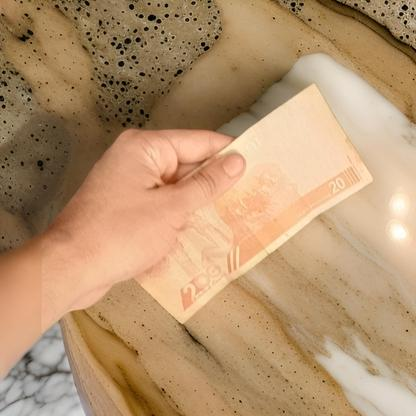twenty-back-vef: (129, 82, 372, 324)
